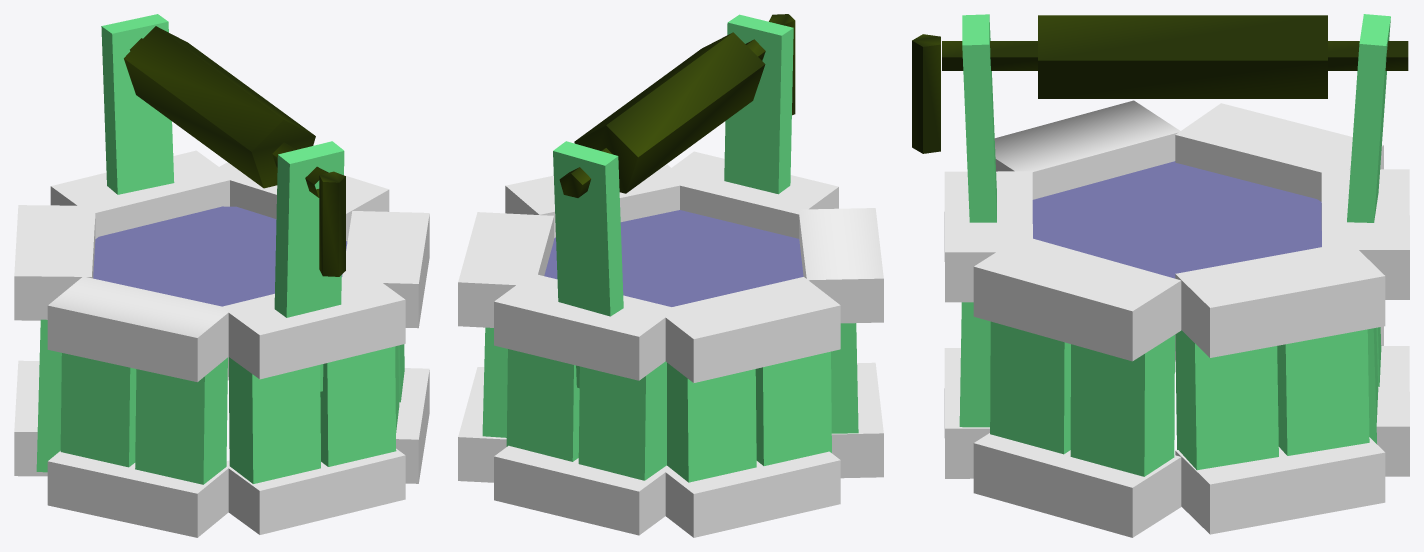
Rendered from SM_Well.fbx.
3 renders of one model, left to right at view 1: azimuth 30°, elevation 25°; view 2: azimuth 150°, elevation 25°; view 3: azimuth 270°, elevation 25°, orthographic. The views are drawn at different scales.
Parts seen in each view (by area): view 1: Well; view 2: Well; view 3: Well.
Boxes of the visible parts, x1,y1,x2,y2 form: Well: (14, 14, 429, 537); Well: (458, 14, 883, 537); Well: (912, 14, 1409, 537).
Bounding box in the file's own units: 151 × 139 × 150.
